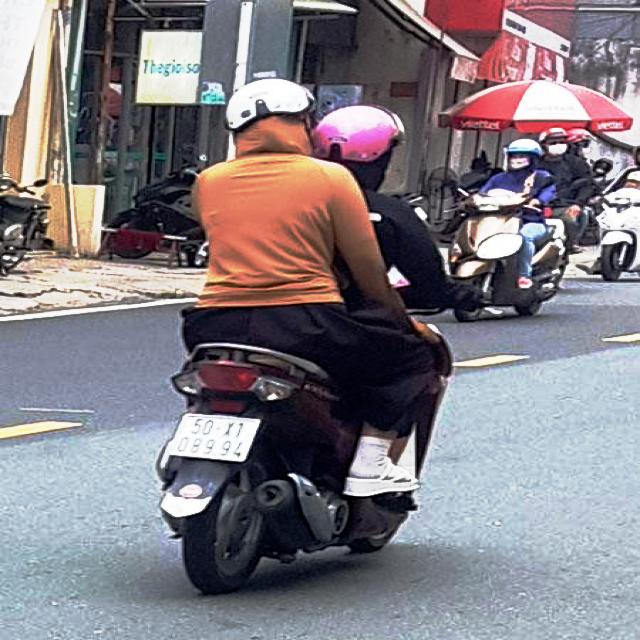license_plate: (172, 416, 262, 462)
